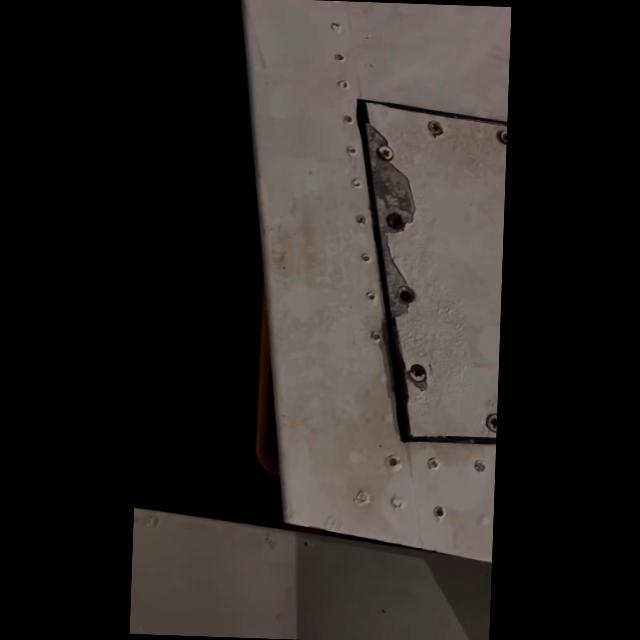Missing Fastener: (394, 289, 416, 307)
